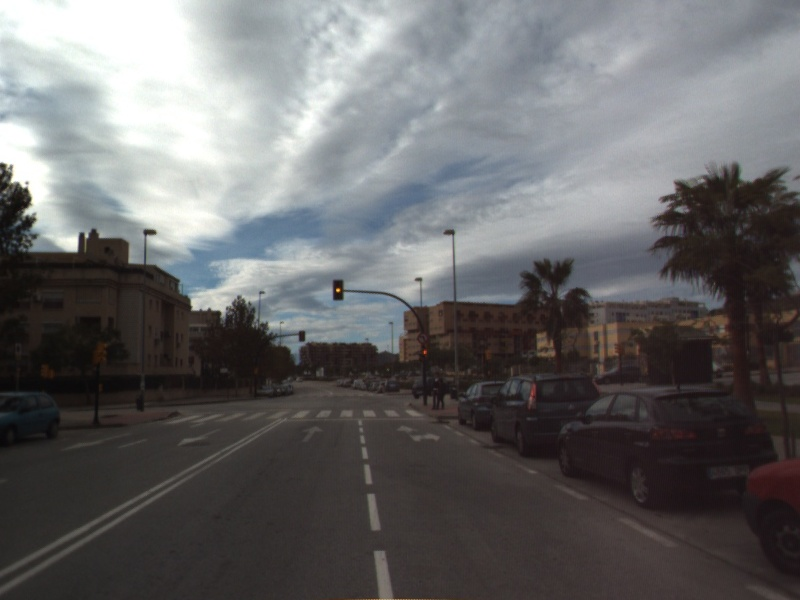STRAIGHT: (299, 423, 327, 444)
STRAIGHT_RIGHT: (394, 423, 442, 444)
